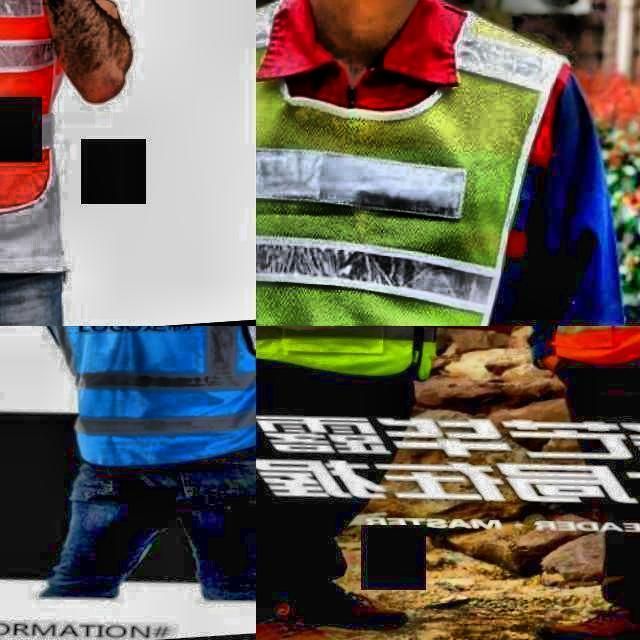safety_jacket: (256, 0, 538, 326), (54, 326, 256, 475), (0, 0, 88, 229), (256, 326, 435, 391)
